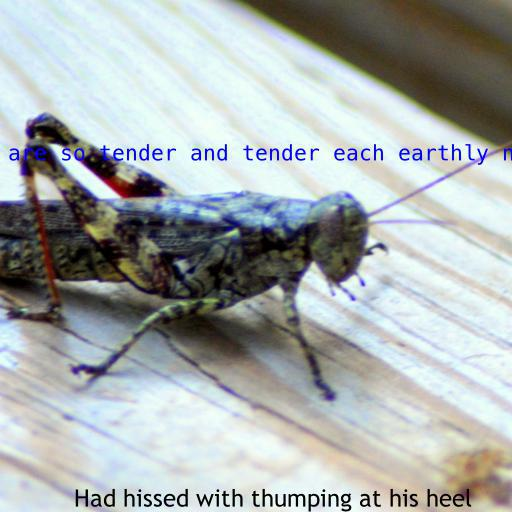Menlo: (0, 144, 512, 165)
Trebuchet MS: (74, 488, 472, 512)
